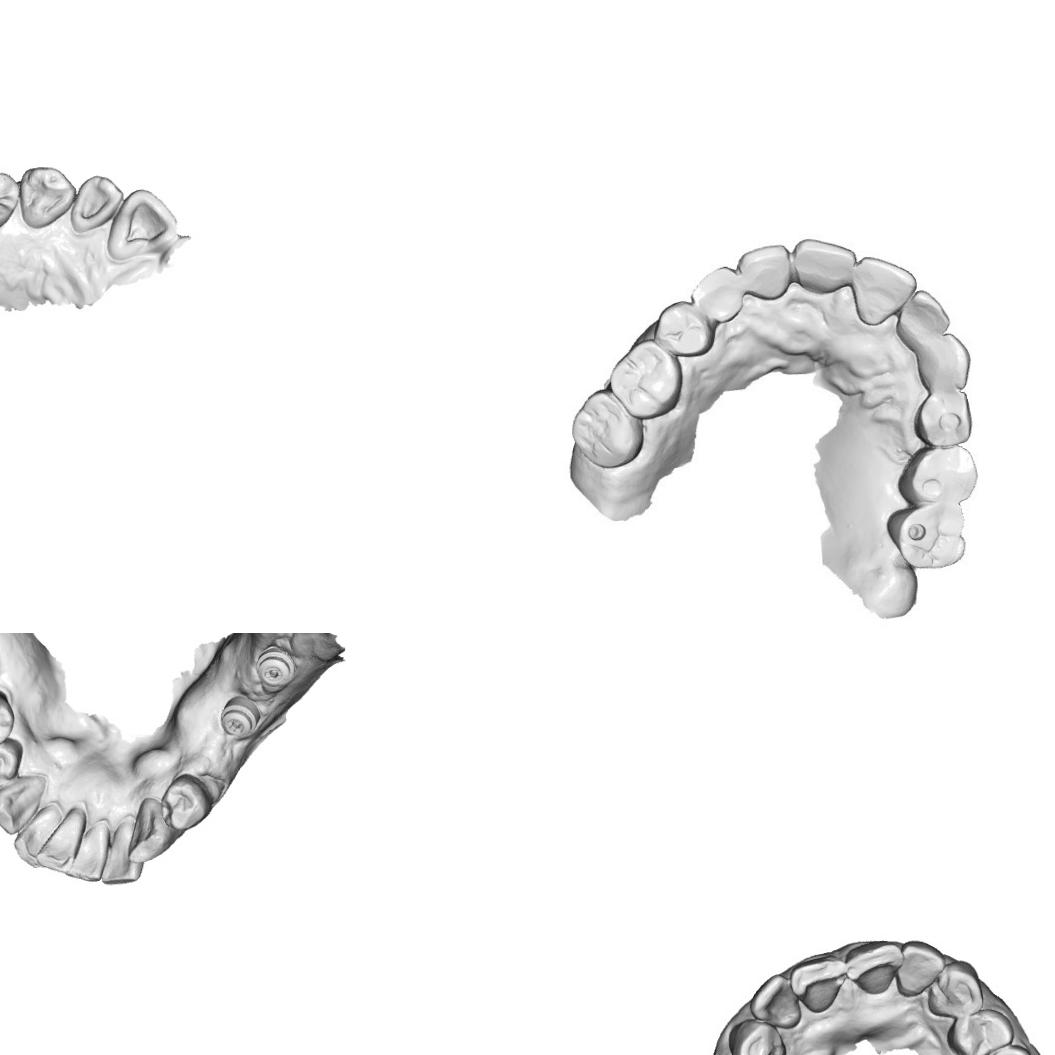canine: (14, 164, 78, 232), (914, 328, 971, 393), (926, 958, 986, 1019), (688, 262, 746, 324), (124, 795, 174, 866), (0, 771, 51, 836), (726, 1017, 788, 1055)
implant_minus: (218, 695, 261, 739), (253, 643, 296, 686)
incisor: (105, 187, 180, 263), (850, 255, 918, 328), (788, 236, 858, 296), (788, 955, 848, 1015), (68, 173, 125, 235), (894, 288, 952, 348), (843, 939, 905, 995), (36, 804, 87, 870), (734, 240, 790, 300), (60, 816, 110, 883), (102, 812, 146, 888), (14, 804, 64, 869), (747, 973, 803, 1030), (897, 938, 948, 997)
molar: (567, 387, 646, 471), (606, 337, 684, 422), (894, 444, 981, 510), (886, 500, 968, 570)
premolar: (911, 390, 974, 452), (650, 298, 714, 357), (943, 1005, 1016, 1055), (158, 773, 213, 831), (0, 171, 20, 237), (0, 737, 24, 791), (0, 693, 15, 748), (968, 1043, 1036, 1055)
